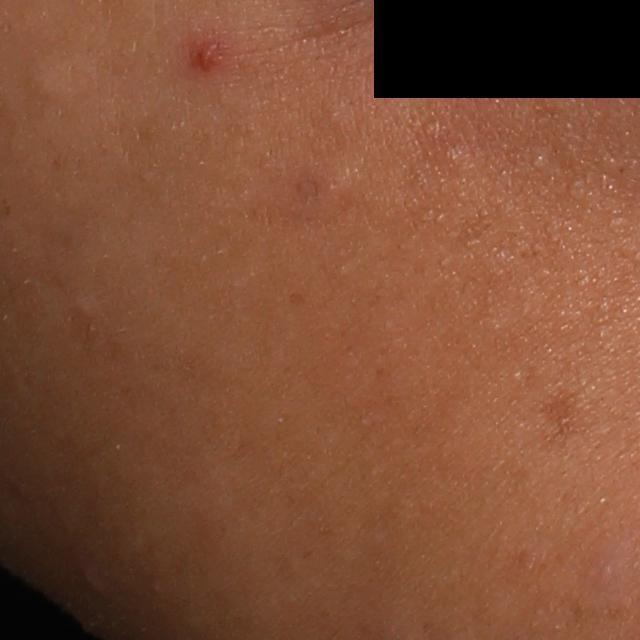comedo: (26, 62, 69, 103), (73, 295, 94, 317)
papule: (186, 22, 233, 80)
